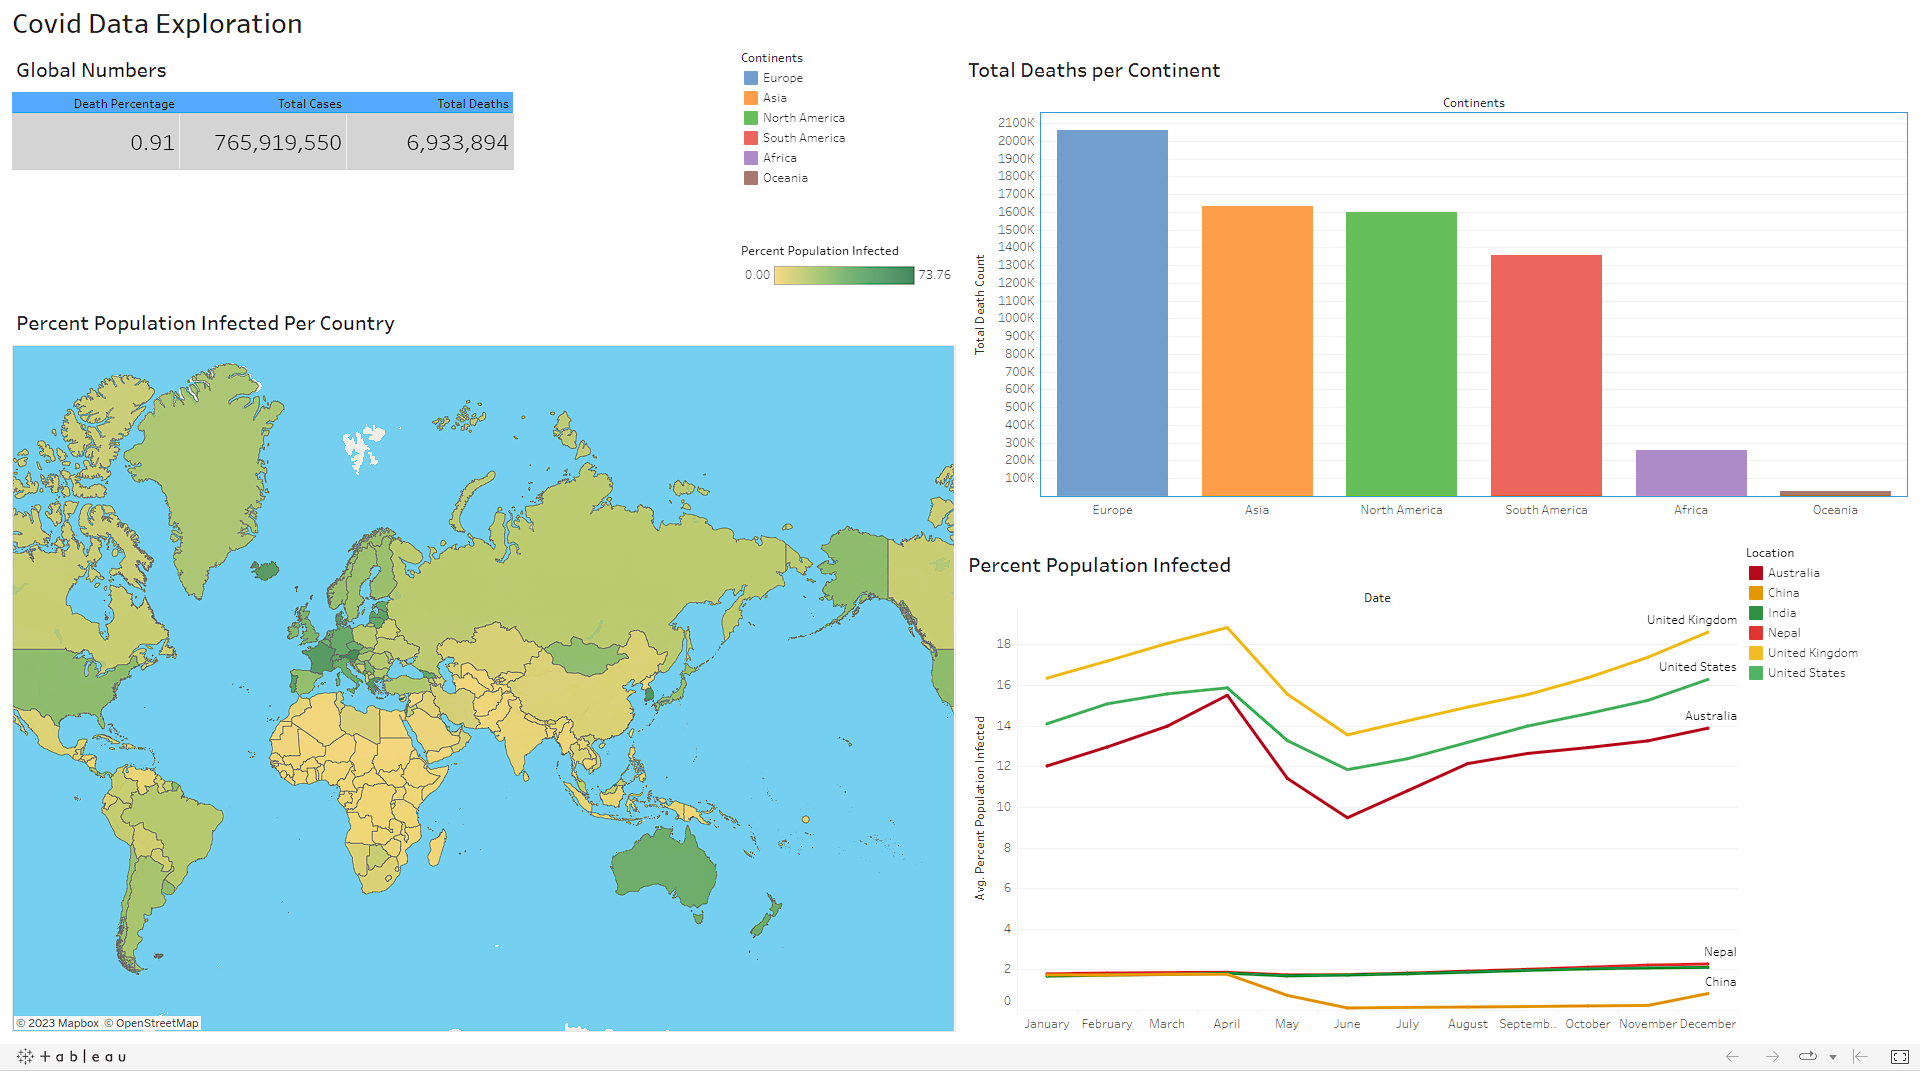

What the dashboard file says about the page in this screenshot:
{"tool":"tableau","page":{"name":"Dashboard 1","canvas":[1000,1000],"units":"permille","ordinal":0},"visuals":[{"type":"title","box":[5,9.8,990.1,55]},{"type":"worksheet","title":"Sheet 1","mark":"Automatic","box":[5,64.8,379.1,236.5]},{"type":"legend","title":"Sheet 2","param":"[federated.0otnxxa0ux1ukr1e9xegb0sfxybg].[none:location:nk]","box":[384,64.8,116,180]},{"type":"worksheet","title":"Sheet 2","mark":"Automatic","rows":["TotalDeathCount"],"cols":["location"],"box":[500,64.8,495.1,462.7]},{"type":"legend","title":"Sheet 3","param":"[federated.164n41x1u0xoix13lgylv0q1mnvc].[sum:PercentPopulationInfected:qk]","box":[384,244.8,116,56.6]},{"type":"worksheet","title":"Sheet 3","mark":"Automatic","box":[5,301.3,495.1,688.9]},{"type":"worksheet","title":"Sheet 4","mark":"Automatic","rows":["PercentPopulationInfected"],"cols":["Date"],"box":[500,527.5,406.6,462.7]},{"type":"legend","title":"Sheet 4","param":"[federated.1ioxbov150fgk518k8kwg0be9tgo].[none:location:nk]","box":[906.6,527.5,88.4,462.7]}]}

Visuals, with their boxes on the dashboard's canvas, which has no fixed pixel size, in thousandths of its width and height (x1, y1, x2, y2). These are canvas units, not pixel positions in the 1920x1071 screenshot, which may show the page scaled, cropped or inside an application window:
title: {"x1": 5, "y1": 10, "x2": 995, "y2": 65}
"Sheet 1" worksheet: {"x1": 5, "y1": 65, "x2": 384, "y2": 301}
"Sheet 2" legend: {"x1": 384, "y1": 65, "x2": 500, "y2": 245}
"Sheet 2" worksheet: {"x1": 500, "y1": 65, "x2": 995, "y2": 528}
"Sheet 3" legend: {"x1": 384, "y1": 245, "x2": 500, "y2": 301}
"Sheet 3" worksheet: {"x1": 5, "y1": 301, "x2": 500, "y2": 990}
"Sheet 4" worksheet: {"x1": 500, "y1": 528, "x2": 907, "y2": 990}
"Sheet 4" legend: {"x1": 907, "y1": 528, "x2": 995, "y2": 990}
